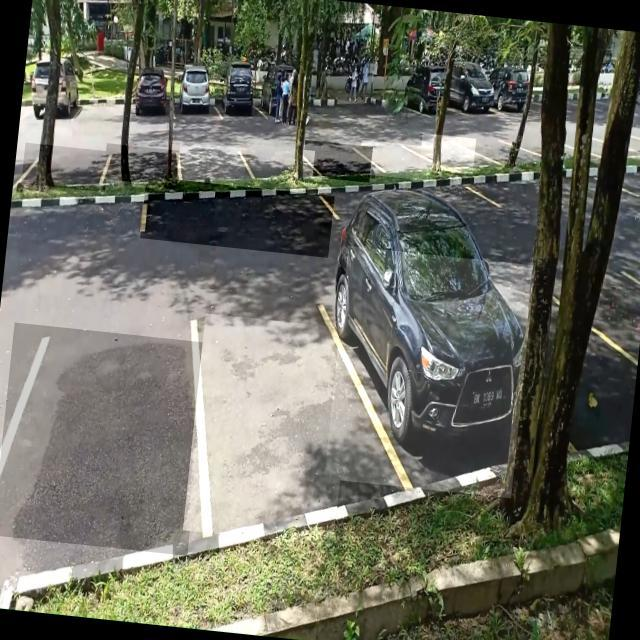empty: (0, 322, 209, 555), (182, 313, 355, 546), (140, 176, 334, 258), (21, 142, 109, 192), (102, 143, 182, 187), (175, 142, 248, 186), (301, 140, 372, 182), (243, 144, 314, 186), (358, 140, 430, 180), (419, 133, 476, 173)
occupied: (323, 245, 534, 498)
